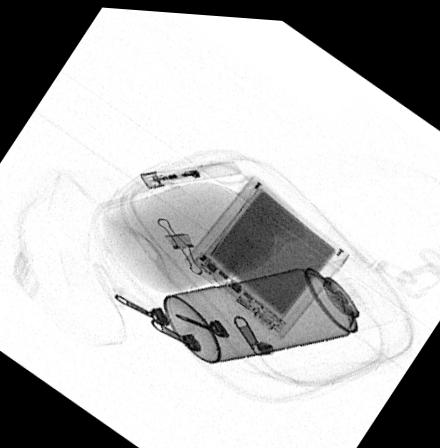Lighter: (140, 156, 242, 186)
Powerbank: (182, 168, 349, 335)
Sprayer: (164, 250, 396, 360)
